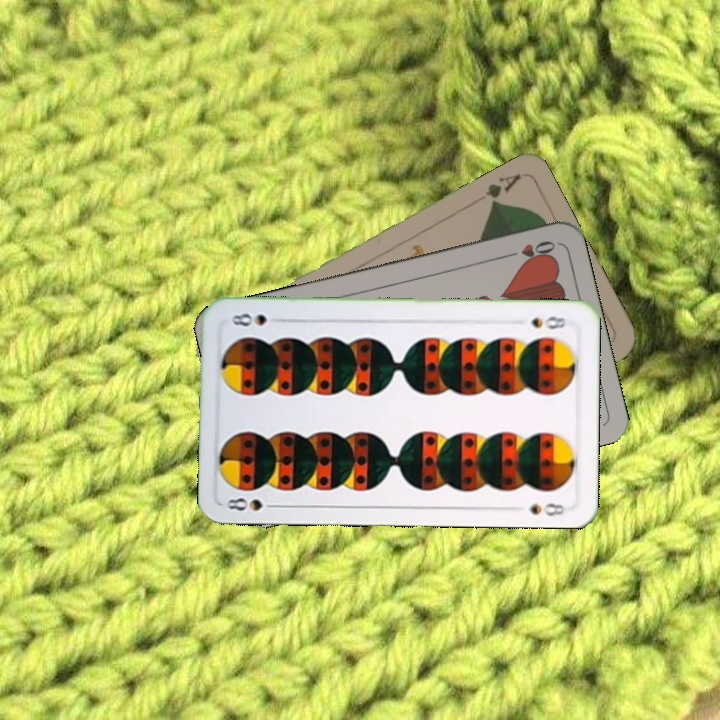GA: (481, 169, 524, 209)
HO: (501, 236, 558, 264)
S8: (223, 494, 282, 514), (527, 312, 569, 332)
